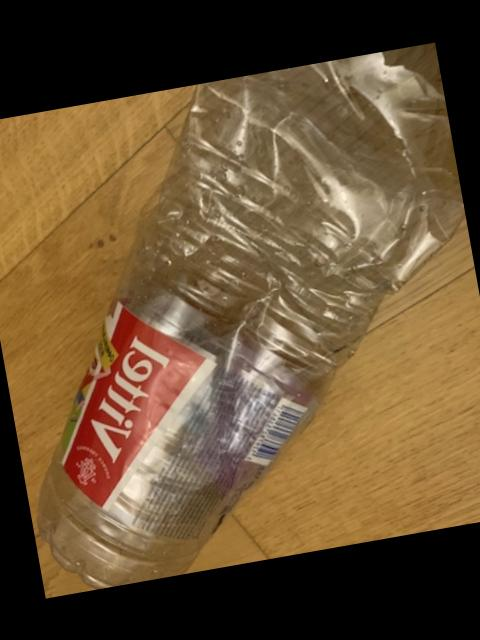plastic: (35, 42, 464, 586)
